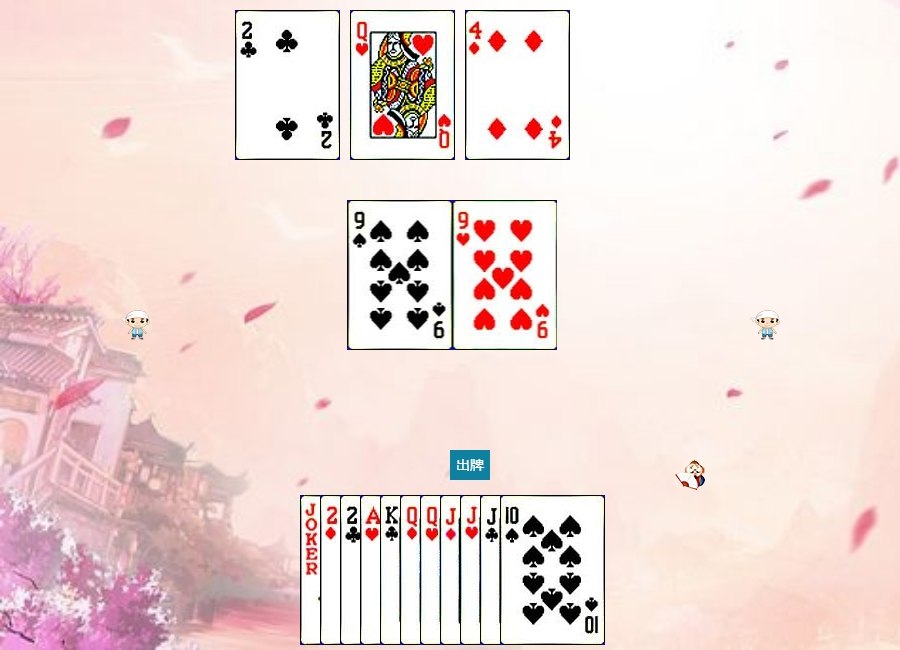10~4: (500, 495, 605, 645)
11~1: (440, 495, 545, 645)
11~2: (480, 495, 585, 645)
11~3: (460, 495, 565, 645)
12~1: (400, 495, 505, 645)
12~3: (350, 10, 455, 160), (420, 495, 525, 645)
13~2: (380, 495, 485, 645)
14~3: (360, 495, 465, 645)
15~1: (320, 495, 425, 645)
15~2: (235, 10, 340, 160), (340, 495, 445, 645)
18~4: (300, 495, 405, 645)
4~1: (465, 10, 570, 160)
9~3: (453, 200, 558, 350)
9~4: (348, 200, 453, 350)
